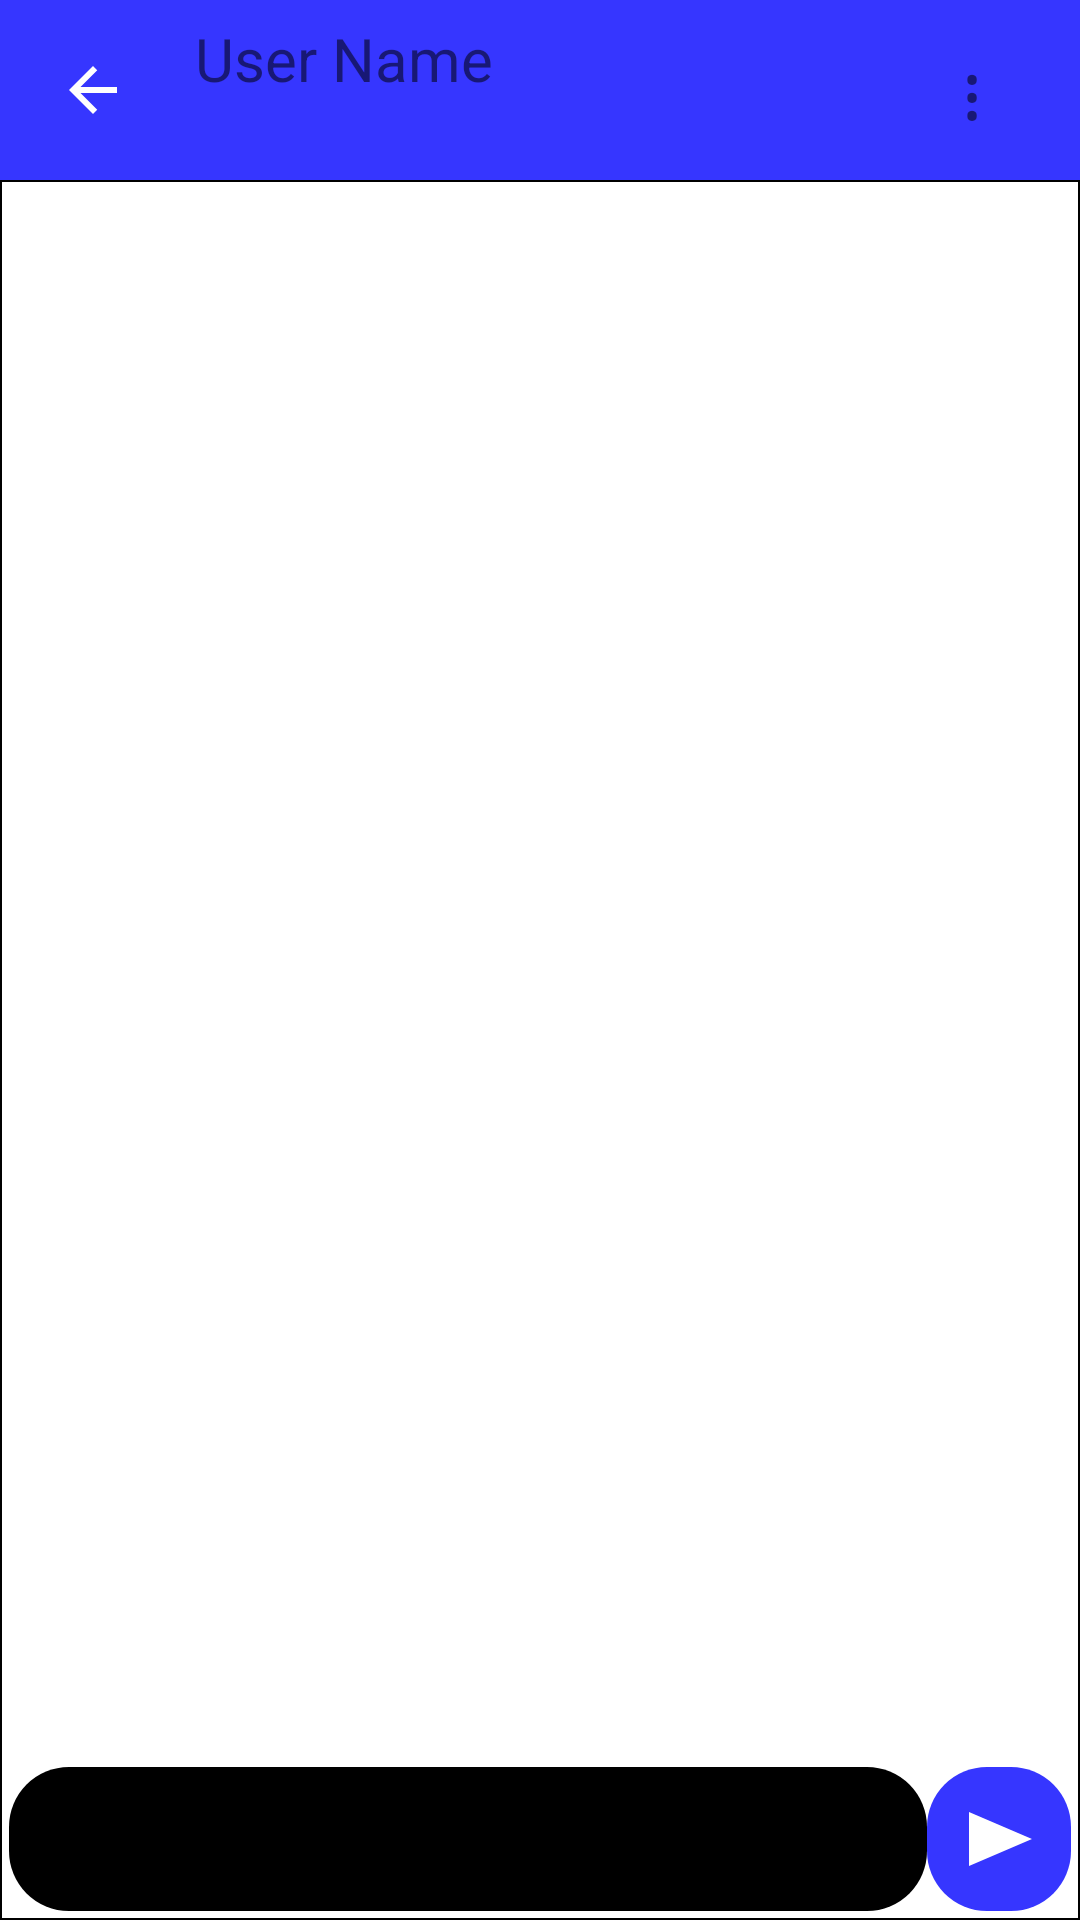

Point at icon controls on the screen. Image size 1080×1920, points as (x=x, y=y).
arrow back: (x=93, y=90)
Send Massege: (x=999, y=1839)
